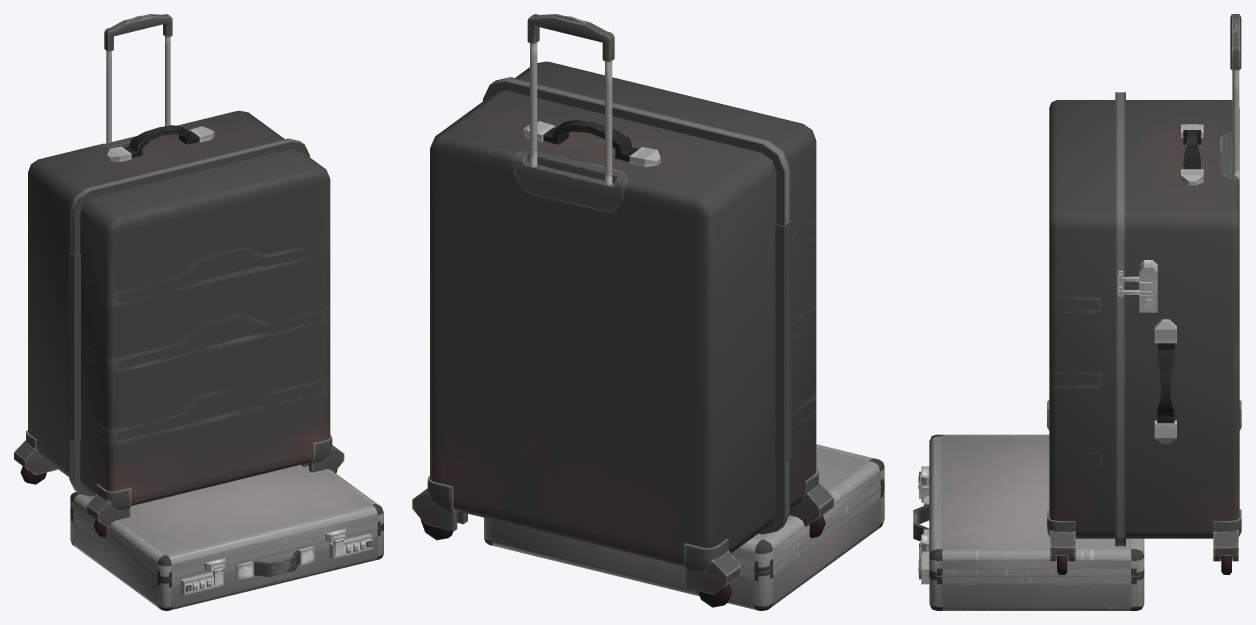
Rendered from Cases.gltf.
3 renders of one model, left to right at view 1: azimuth 30°, elevation 25°; view 2: azimuth 150°, elevation 25°; view 3: azimuth 270°, elevation 25°, orthographic. The views are drawn at different scales.
Visible parts, largest first — view 1: SuitCaseLid, SuitCase, BriefCase_Lid, BriefCase; view 2: SuitCase, SuitCaseLid, BriefCase, BriefCase_Lid; view 3: SuitCase, SuitCaseLid, BriefCase_Lid, BriefCase.
Part boxes in pixels (x1=…): SuitCaseLid: x1=71, y1=140, x2=344, y2=537; SuitCase: x1=14, y1=14, x2=301, y2=491; BriefCase_Lid: x1=70, y1=464, x2=383, y2=585; BriefCase: x1=70, y1=513, x2=383, y2=610; SuitCase: x1=412, y1=14, x2=787, y2=607; SuitCaseLid: x1=493, y1=61, x2=833, y2=538; BriefCase: x1=484, y1=485, x2=884, y2=610; BriefCase_Lid: x1=731, y1=444, x2=884, y2=571; SuitCase: x1=1120, y1=14, x2=1241, y2=574; SuitCaseLid: x1=1047, y1=92, x2=1120, y2=574; BriefCase_Lid: x1=919, y1=434, x2=1144, y2=576; BriefCase: x1=913, y1=466, x2=1144, y2=610.
Bounding box in the file's own units: 0.5025 × 0.8965 × 0.5041.
Materials: 2 (2 with a texture image).
